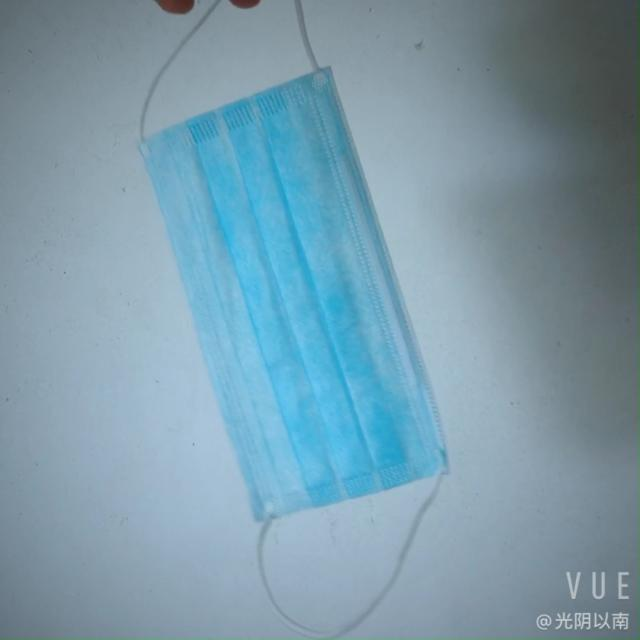non-organic waste: (155, 58, 419, 488)
